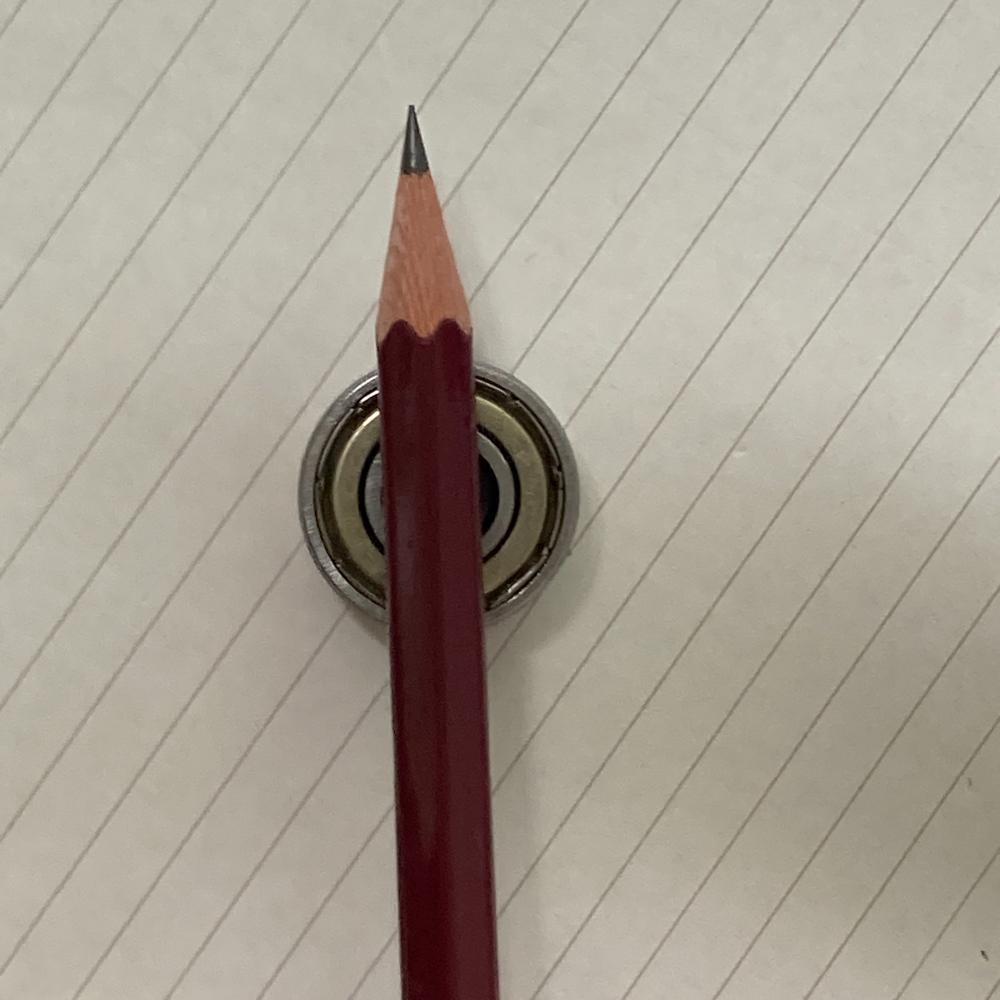ball_bearing: (290, 352, 583, 640)
